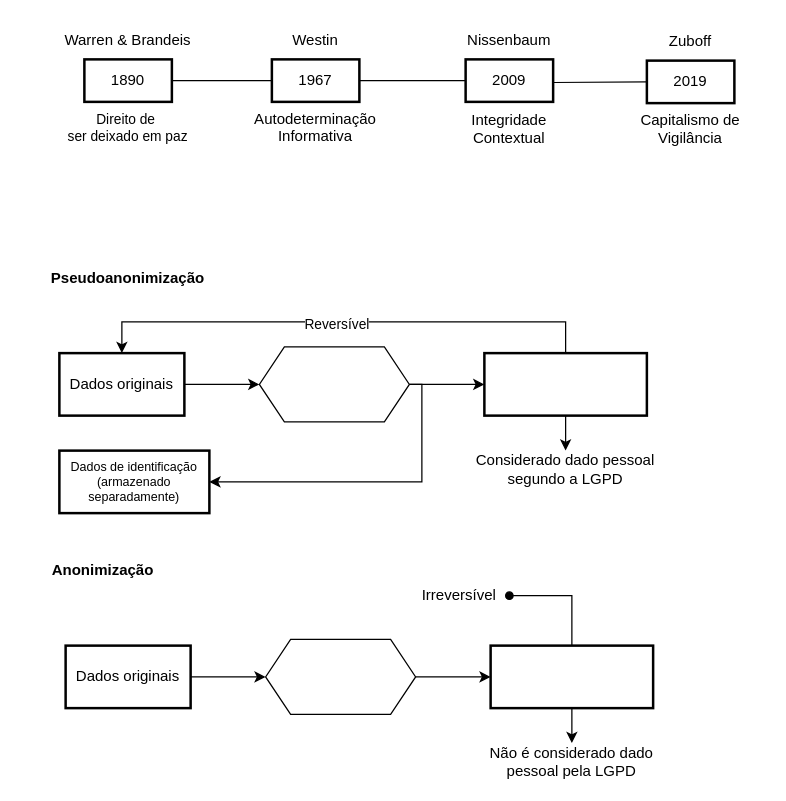
The diagram is 786 pixels wide and 801 high, and some of its shapes have lost their labels. Each missing label, with the box of its shape:
Aplica técnica de anonimização: (264, 638, 416, 714)
Aplica técnica de desassociação: (258, 346, 409, 422)
Dados anonimizados: (489, 644, 654, 709)
Dados pseudoanonimizados: (482, 351, 648, 416)
